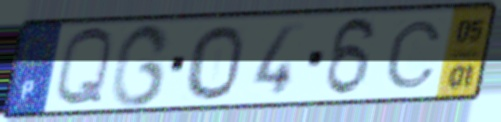4: (249, 21, 302, 99)
6: (323, 13, 384, 101)
C: (382, 18, 446, 92)
G: (107, 21, 174, 110)
O: (183, 22, 247, 102)
Q: (52, 24, 117, 111)
